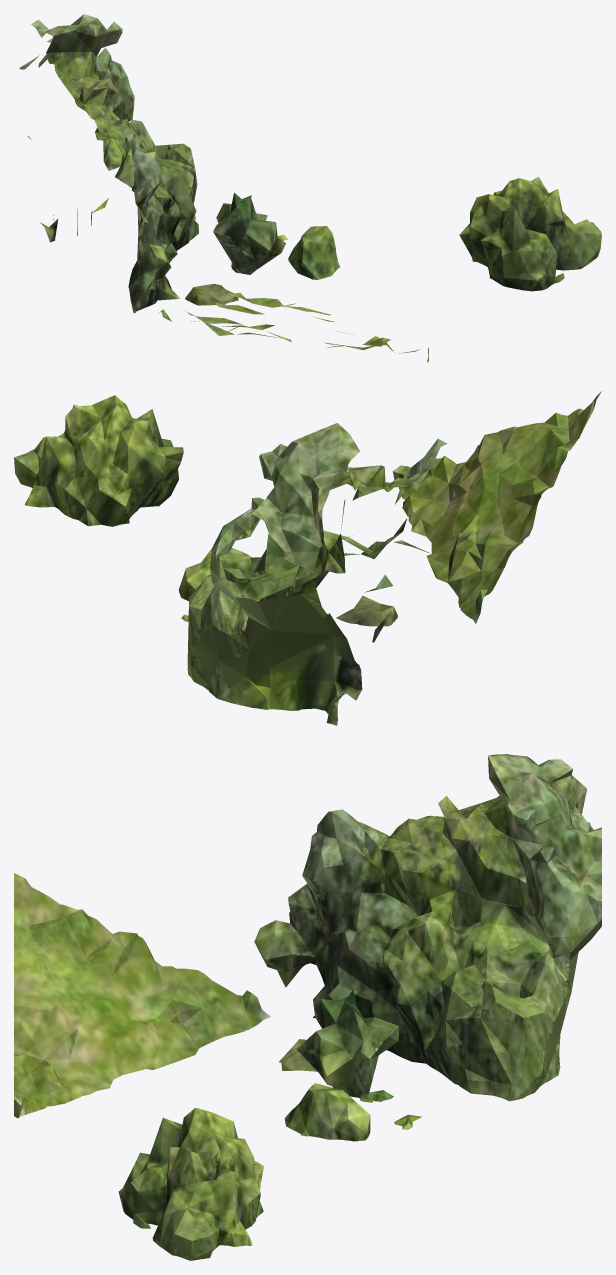
The picture shows the model from 3 angles, top to bottom: view 1: azimuth 30°, elevation 25°; view 2: azimuth 150°, elevation 25°; view 3: azimuth 270°, elevation 25°; orthographic projection. The views are drawn at different scales.
Size of the model in its own units: 25.76 by 13.57 by 26.11.
Materials: 2 (2 with a texture image).
